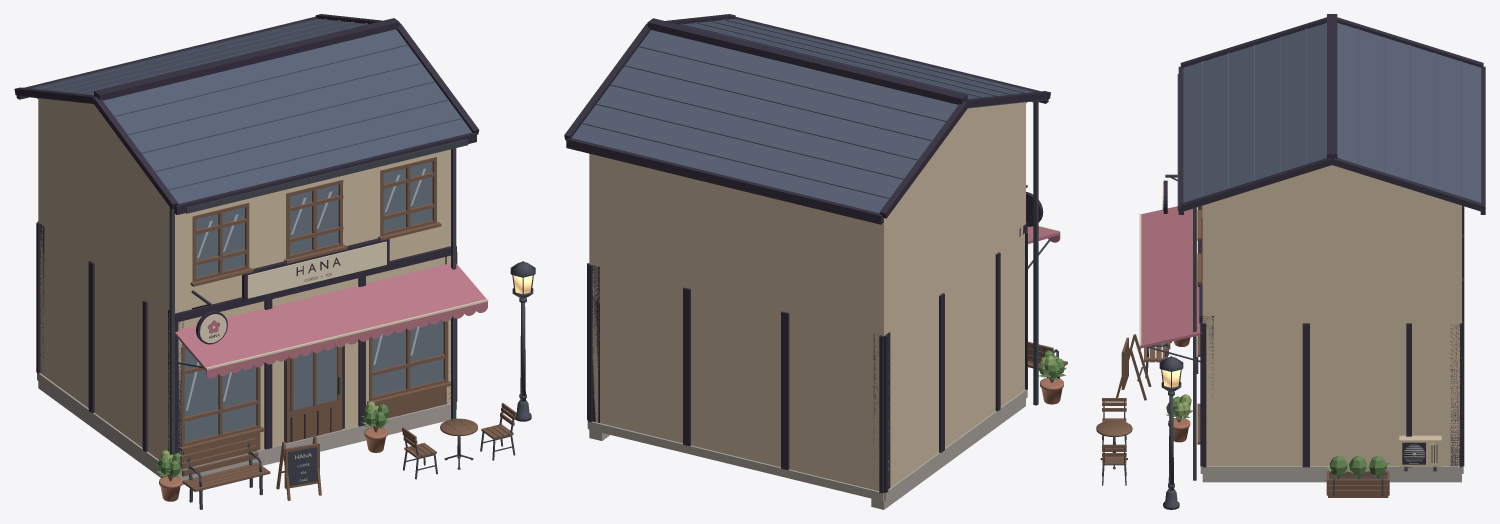
Rendered from SM_Cafe01_Assembled.fbx.
3 views of the same model, side by side, from view 1: azimuth 30°, elevation 25°; view 2: azimuth 150°, elevation 25°; view 3: azimuth 270°, elevation 25° (orthographic). The views are drawn at different scales.
Visible parts, largest first — view 1: SM_Cafe01_Assembled; view 2: SM_Cafe01_Assembled; view 3: SM_Cafe01_Assembled.
Part boxes in pixels (<box>): SM_Cafe01_Assembled: <box>14,14,535,509</box>; SM_Cafe01_Assembled: <box>564,14,1067,509</box>; SM_Cafe01_Assembled: <box>1096,14,1485,509</box>.
Bounding box in the file's own units: 7.94 × 7.51 × 7.07.
